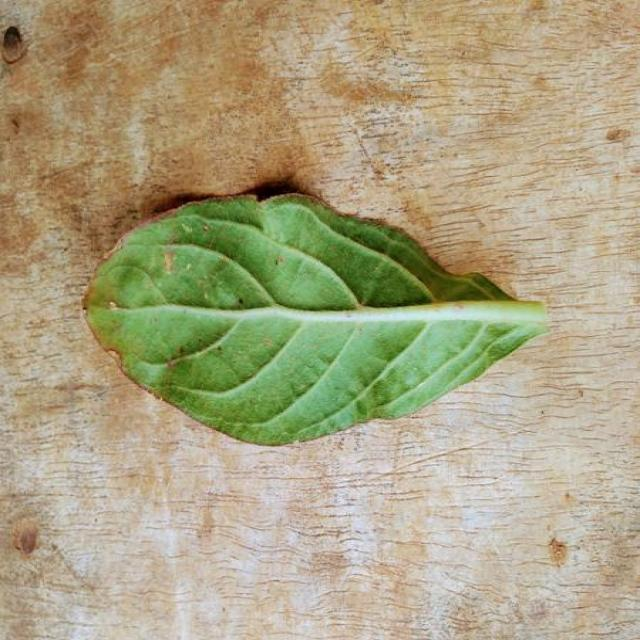globe amarnath: (85, 195, 545, 444)
